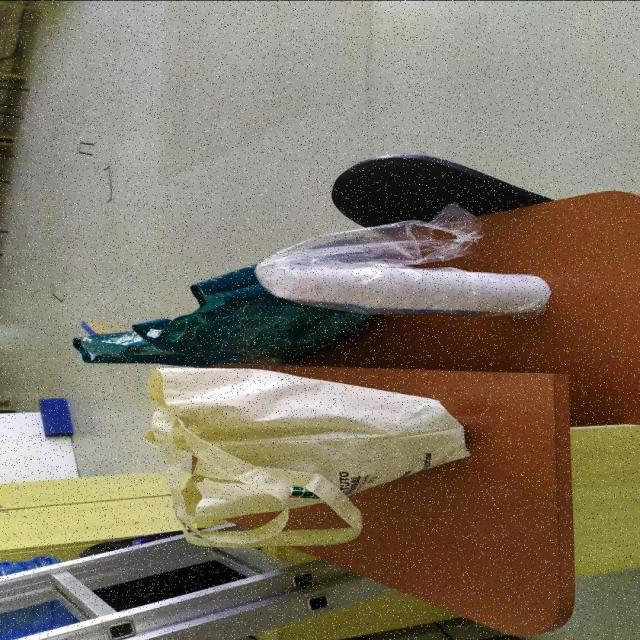Bag: (150, 365, 472, 548), (70, 261, 381, 364)
